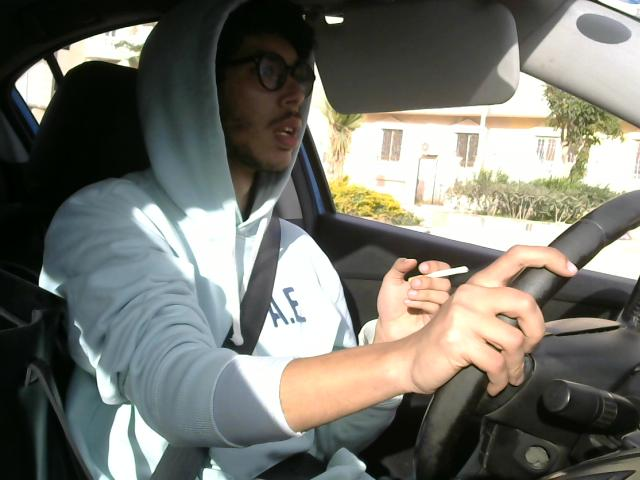Smoking: (400, 259, 476, 285)
